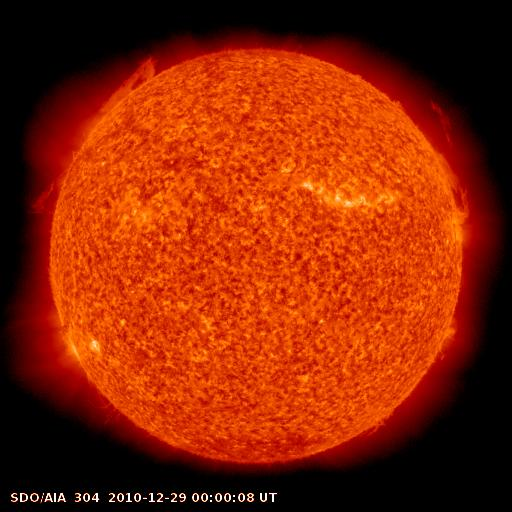prominence: (413, 93, 481, 224), (85, 52, 178, 136), (18, 160, 80, 230), (366, 403, 405, 439)
